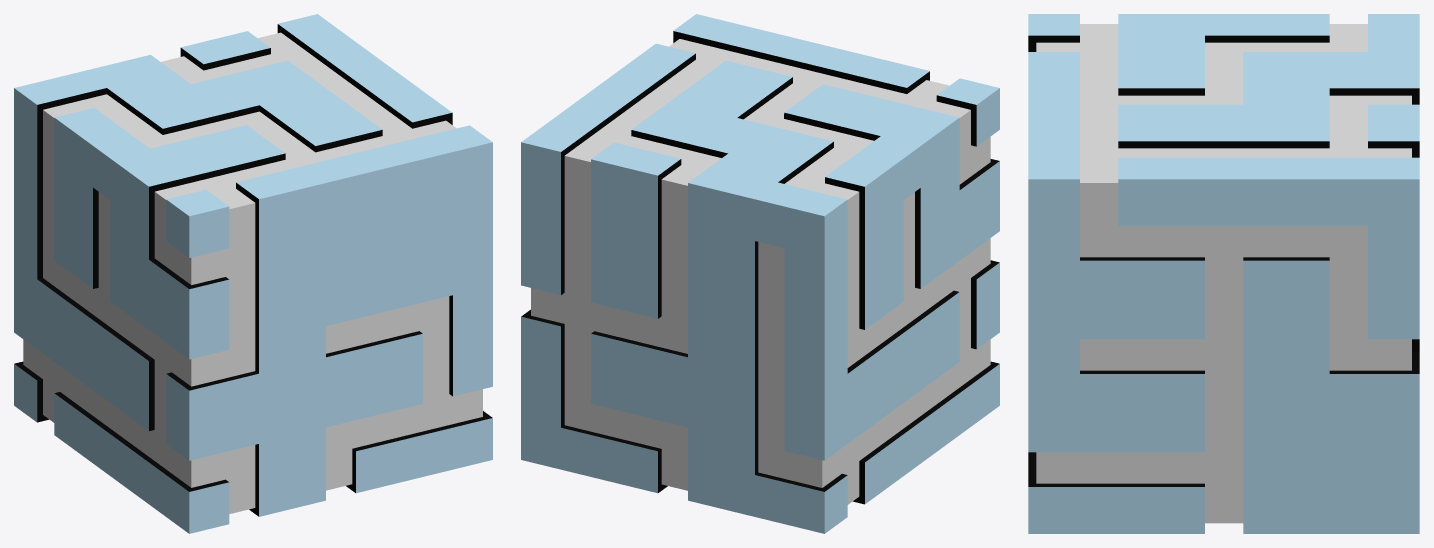
3 renders of one model, left to right at view 1: azimuth 30°, elevation 25°; view 2: azimuth 150°, elevation 25°; view 3: azimuth 270°, elevation 25°, orthographic. The views are drawn at different scales.
Parts seen in each view (by area): view 1: Cube; view 2: Cube; view 3: Cube.
Boxes of the visible parts, left/top/right/bottom form: Cube: left=14, top=14, right=492, bottom=533; Cube: left=521, top=14, right=999, bottom=533; Cube: left=1028, top=14, right=1419, bottom=533.
Bounding box in the file's own units: 200 × 200 × 200.
